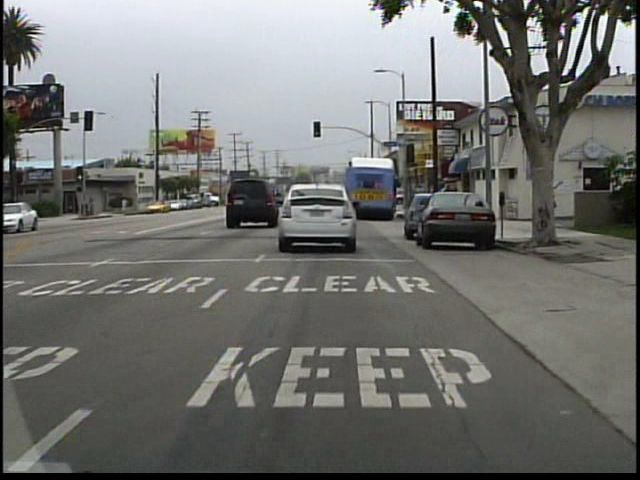person: (526, 174, 545, 229), (537, 177, 554, 233), (412, 180, 431, 220), (121, 195, 131, 214)
